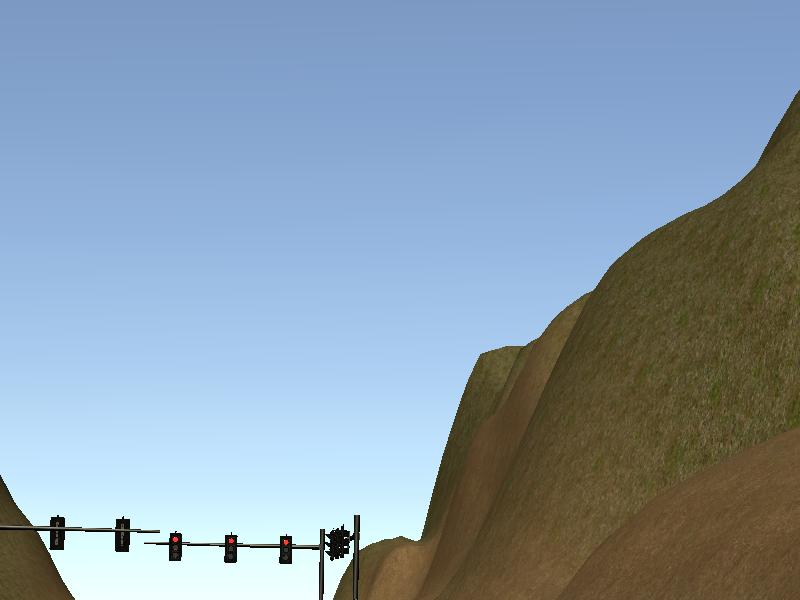Red: (279, 535, 293, 563), (169, 532, 182, 559), (225, 534, 237, 561)
